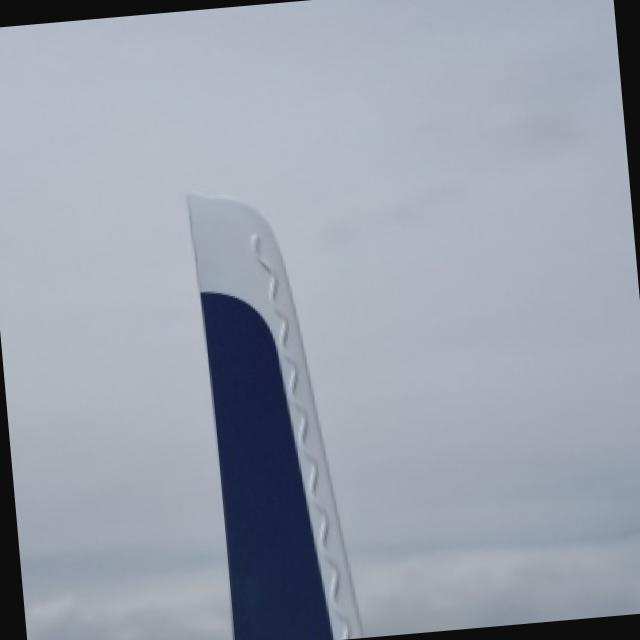healthy: (187, 193, 358, 640)
